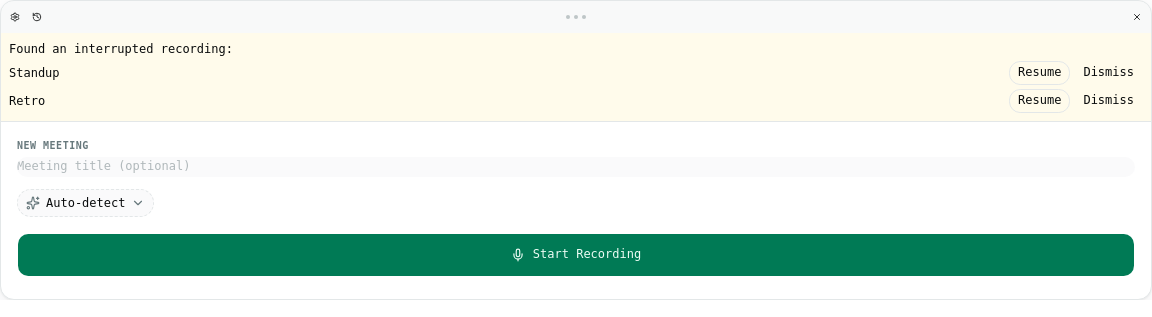
Test case: App orphaned recording recovery › dismisses only the clicked meeting, leaving the other orphaned meetings visible
This screenshot has width=1152, height=317.
Expected: the text "Standup" is shown, [9, 65, 60, 81]
Expected: the text "Retro" is shown, [9, 93, 45, 109]
Click the button "Dismiss" in the row of "Standup" at (1109, 73), box [1074, 61, 1143, 85]
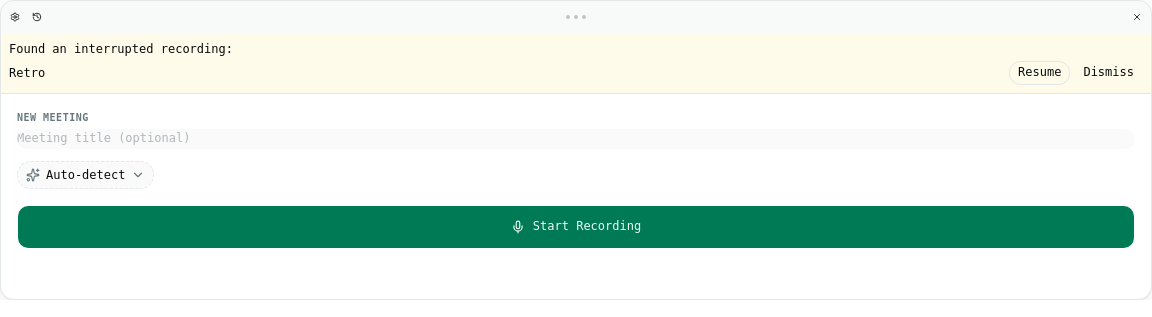
Expected: the text "Retro" is shown, [9, 65, 45, 81]
Now the text "Standup" is gone
